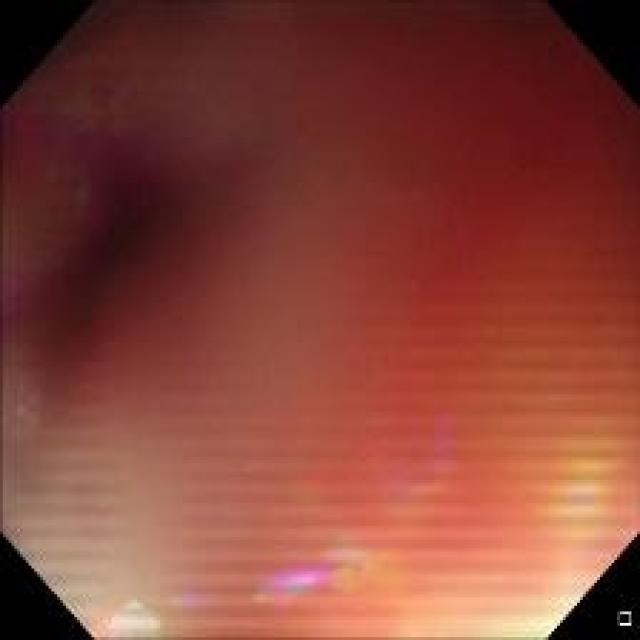color misalignment: (6, 8, 631, 629), (251, 534, 375, 602), (102, 588, 200, 629)
